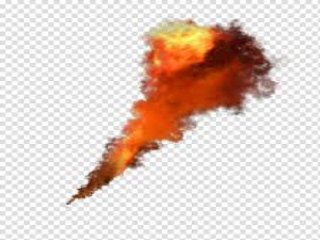fire: (47, 15, 284, 211)
